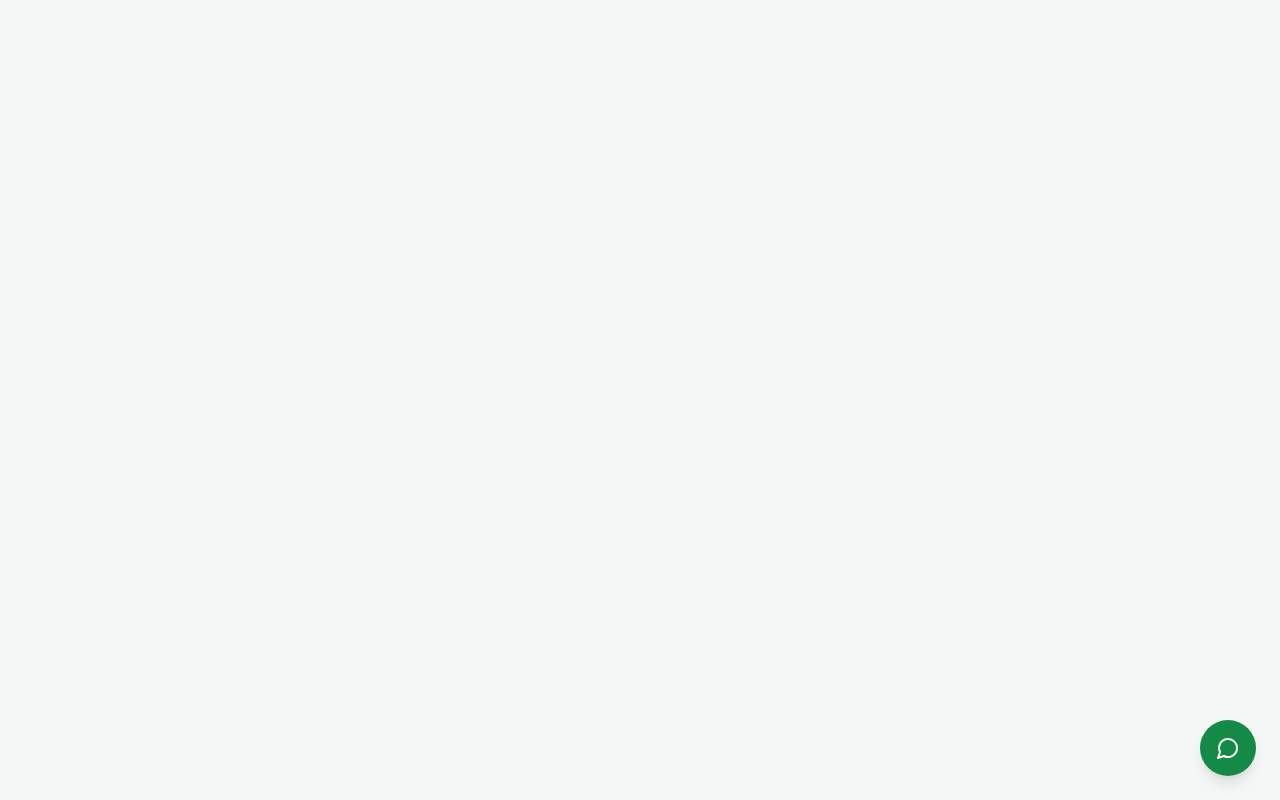
Test: Recipe chat › closing the chat while it's answering doesn't lose the wait or allow a second question
Later steps or results of the test are not shown.
Click the button named "Open recipe chat" at (1228, 748), box [1200,720,1256,776]
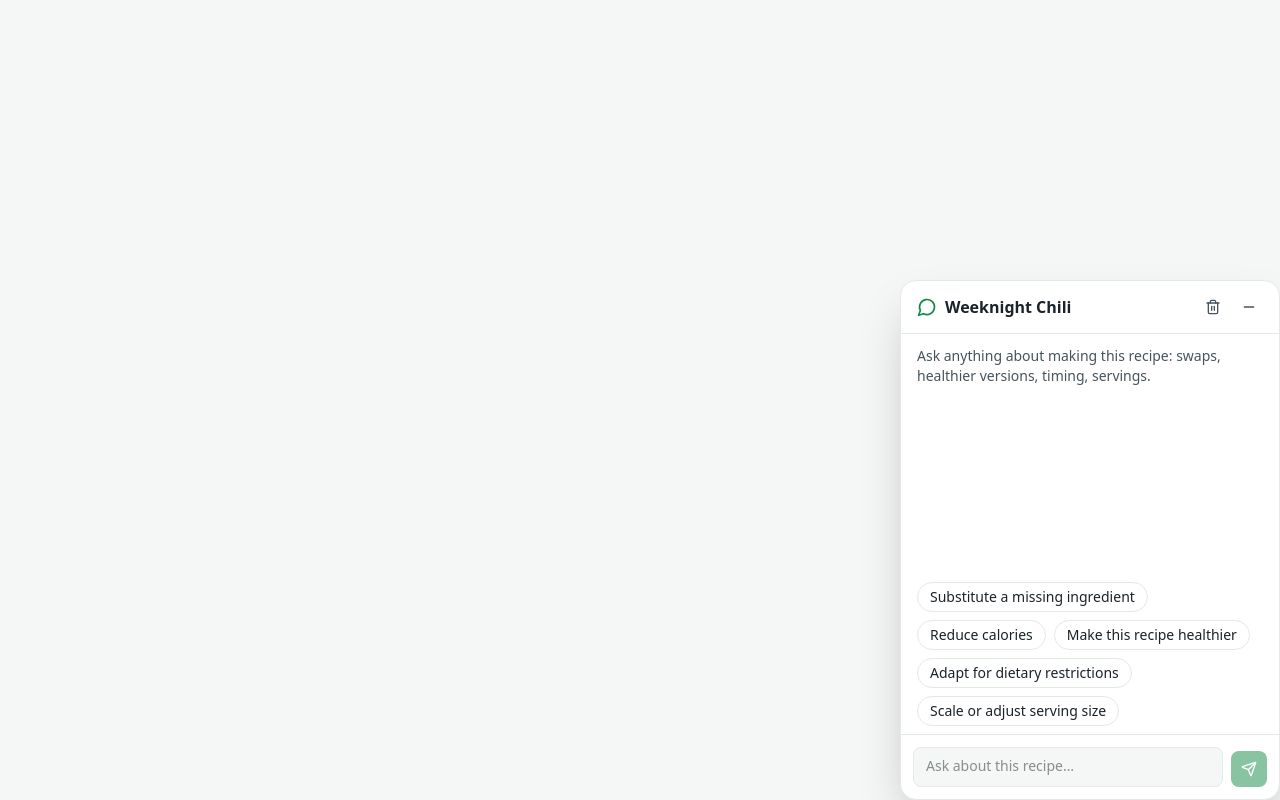
Click the button "Reduce calories" at (981, 635), box [917,620,1046,650]
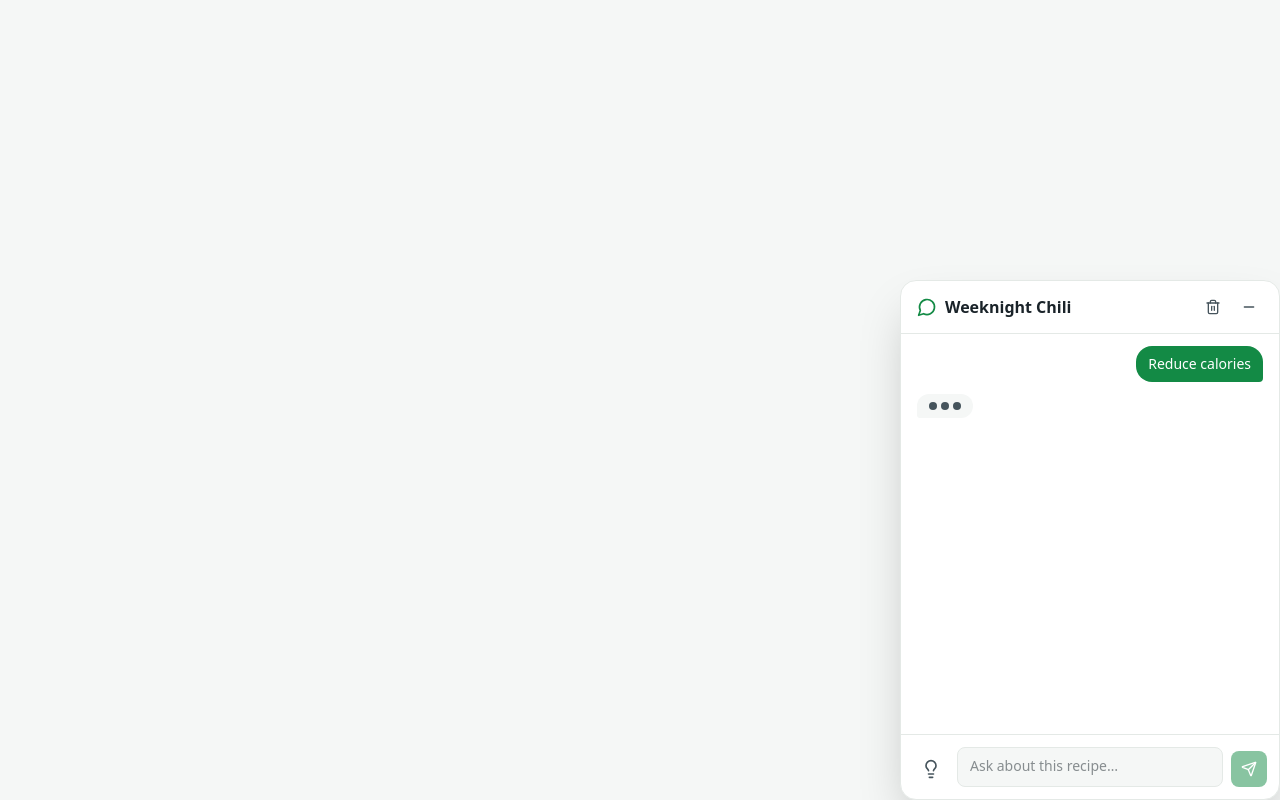
Click the button named "Minimize" at (1249, 307), box [1235,293,1263,321]
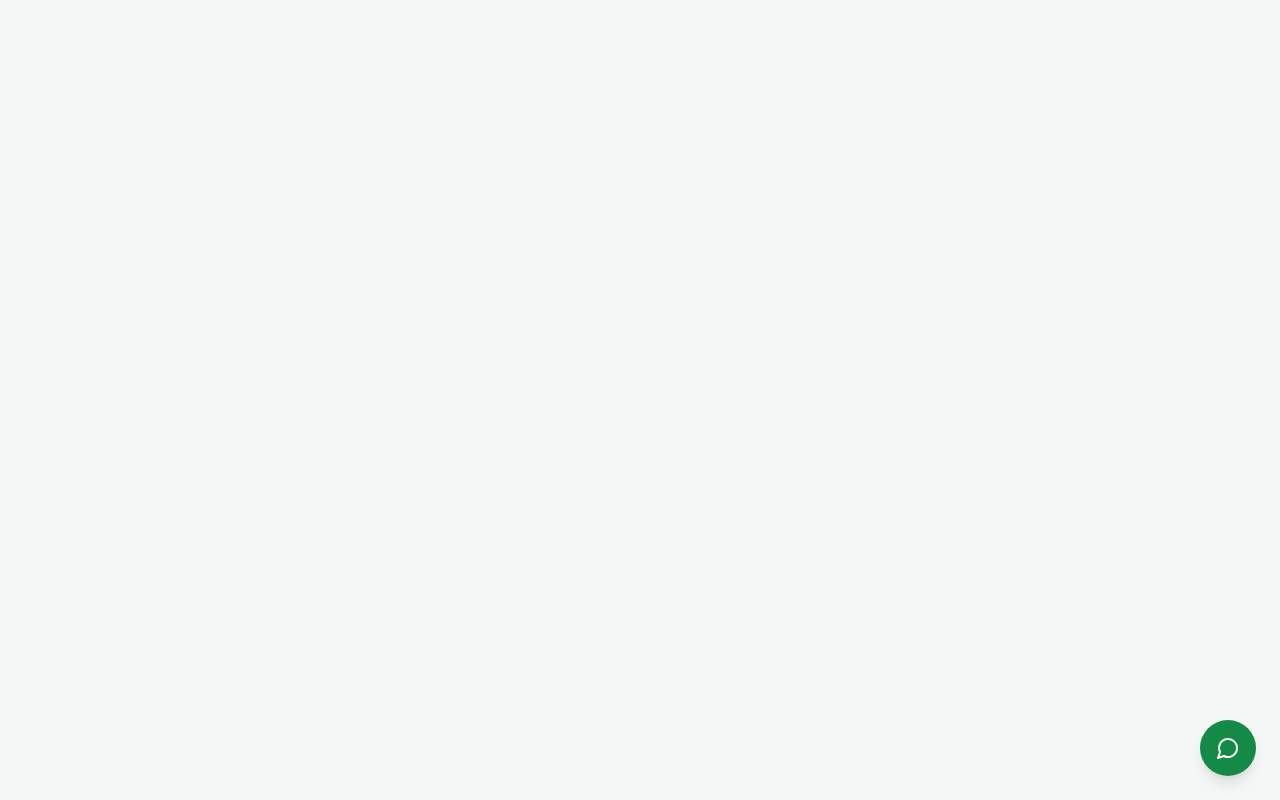
Click the button named "Open recipe chat" at (1228, 748), box [1200,720,1256,776]
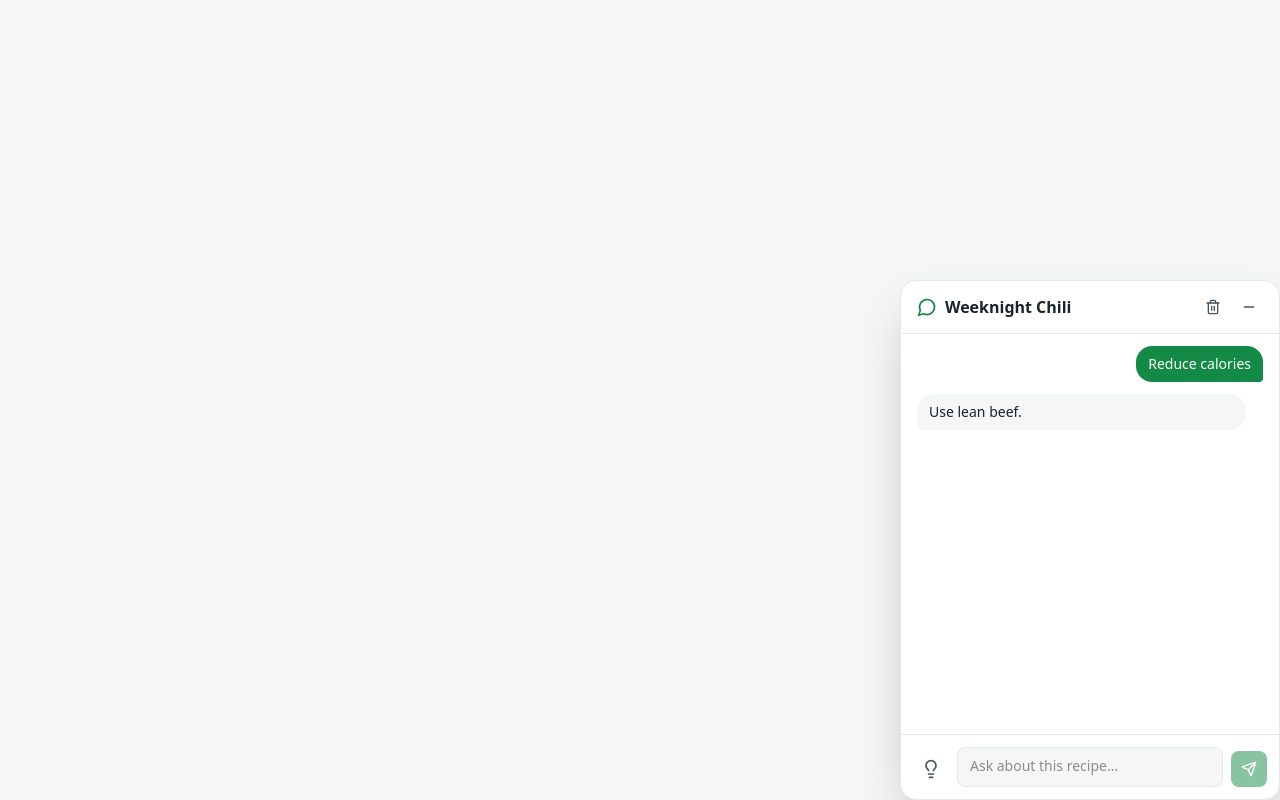
expect the text "Use lean beef." is shown: met, box [929,402,1022,421]
